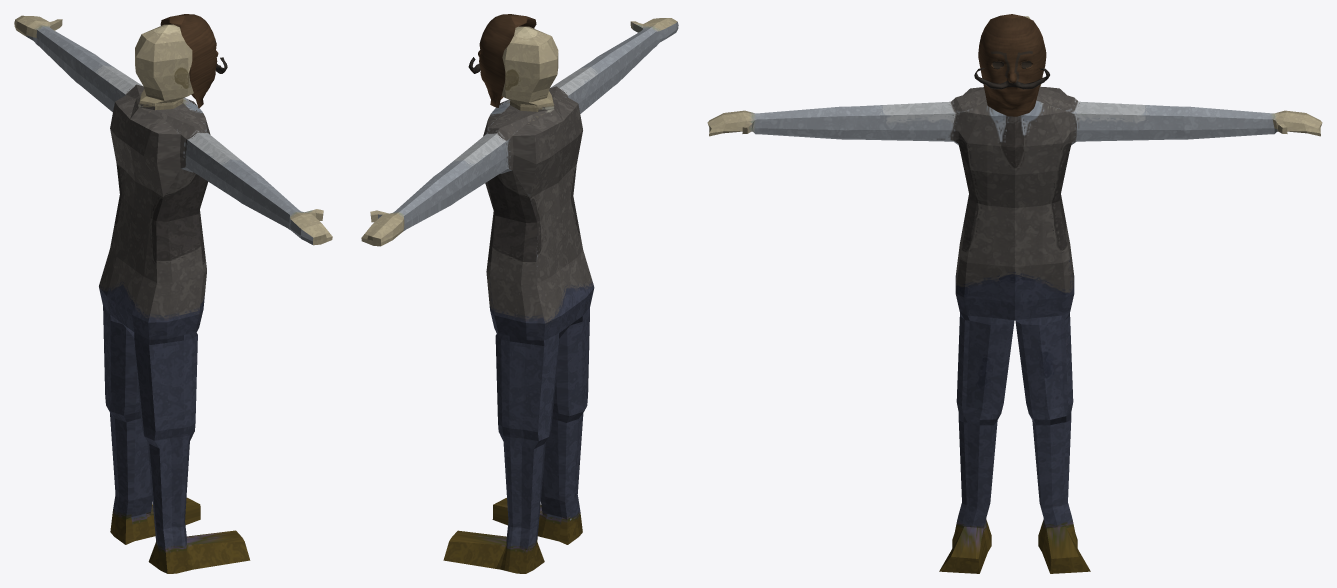
The model's file is tavernier_avant_3.fbx.
3 renders of one model, left to right at view 1: azimuth 30°, elevation 25°; view 2: azimuth 150°, elevation 25°; view 3: azimuth 270°, elevation 25°, orthographic. The views are drawn at different scales.
Parts seen in each view (by area): view 1: Cube.003, uvVersion2.002; view 2: Cube.003, uvVersion2.002; view 3: Cube.003, uvVersion2.002.
Part boxes in pixels (x1=…): Cube.003: x1=14, y1=15, x2=332, y2=573; uvVersion2.002: x1=160, y1=14, x2=227, y2=108; Cube.003: x1=361, y1=18, x2=678, y2=573; uvVersion2.002: x1=468, y1=14, x2=536, y2=107; Cube.003: x1=707, y1=16, x2=1322, y2=573; uvVersion2.002: x1=974, y1=14, x2=1049, y2=116.
Bounding box in the file's own units: 148 × 755 × 780.
